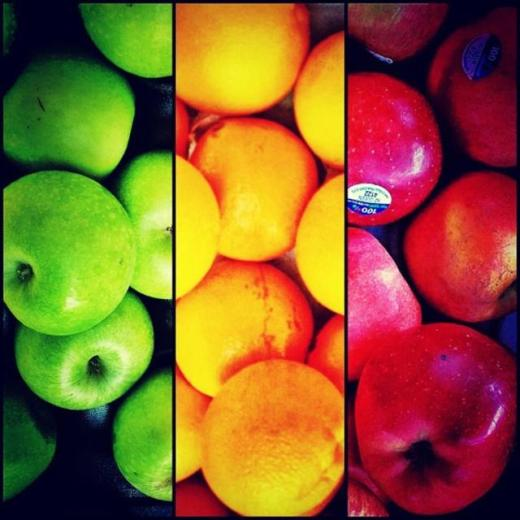Apple: (0, 0, 175, 506), (346, 1, 516, 518)
